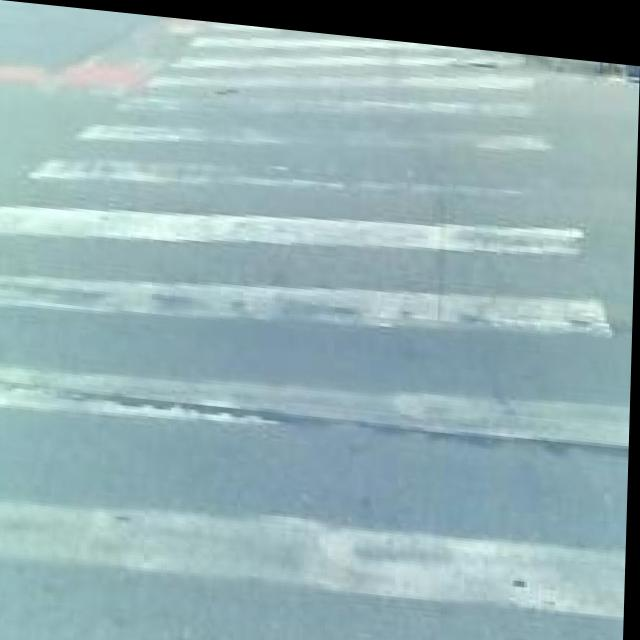zebra: (161, 34, 591, 640)
